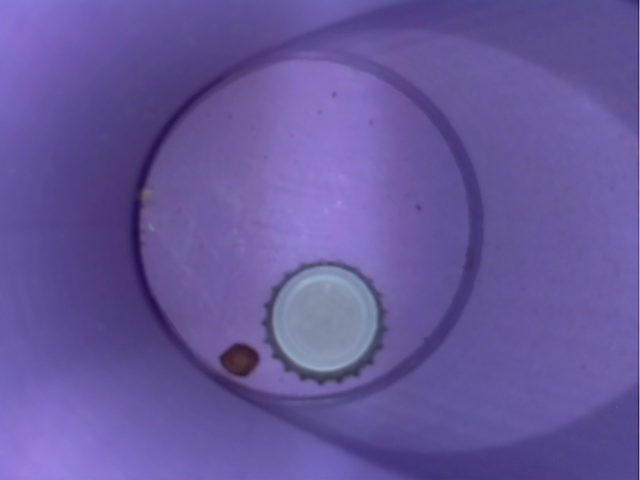capsule: (254, 258, 397, 388)
croquette: (210, 326, 268, 387)
